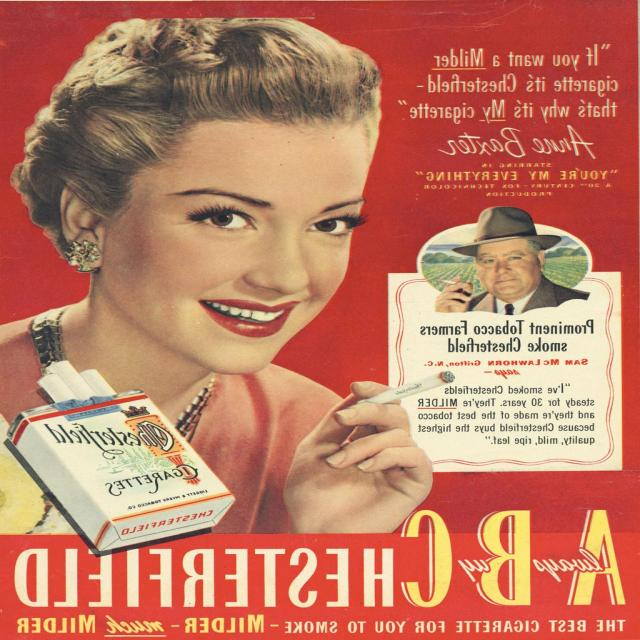smoking: (175, 333, 458, 489), (434, 210, 566, 314)
